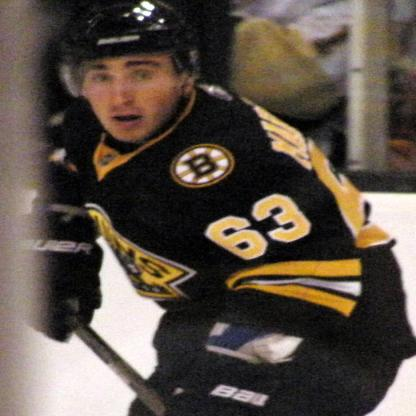Helmet: (59, 0, 200, 156)
